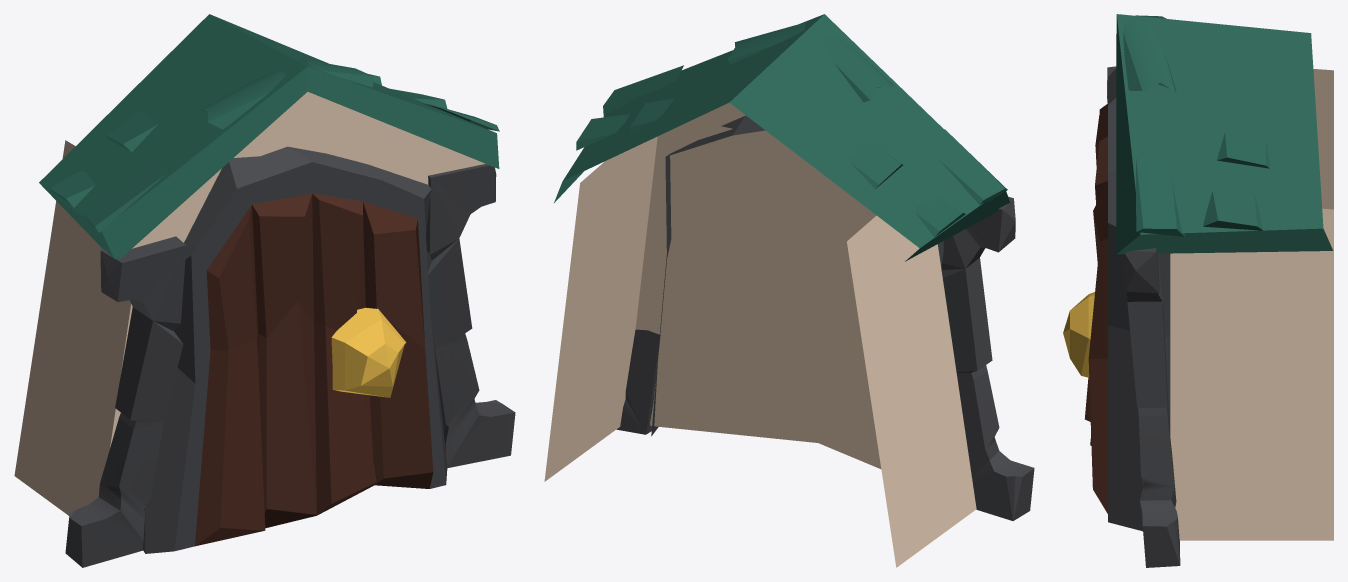
The model's file is SM_L_G_Home_Tile_door.fbx.
The picture shows the model from 3 angles, left to right: view 1: azimuth 30°, elevation 25°; view 2: azimuth 150°, elevation 25°; view 3: azimuth 270°, elevation 25°; orthographic projection. The views are drawn at different scales.
Parts seen in each view (by area): view 1: SM_L_G_Home_Tile_door; view 2: SM_L_G_Home_Tile_door; view 3: SM_L_G_Home_Tile_door.
Boxes of the visible parts, x1=… form: SM_L_G_Home_Tile_door: x1=14, y1=14, x2=515, y2=567; SM_L_G_Home_Tile_door: x1=544, y1=14, x2=1034, y2=567; SM_L_G_Home_Tile_door: x1=1063, y1=14, x2=1333, y2=567.
Size of the model in its own units: 216 by 211 by 116.
